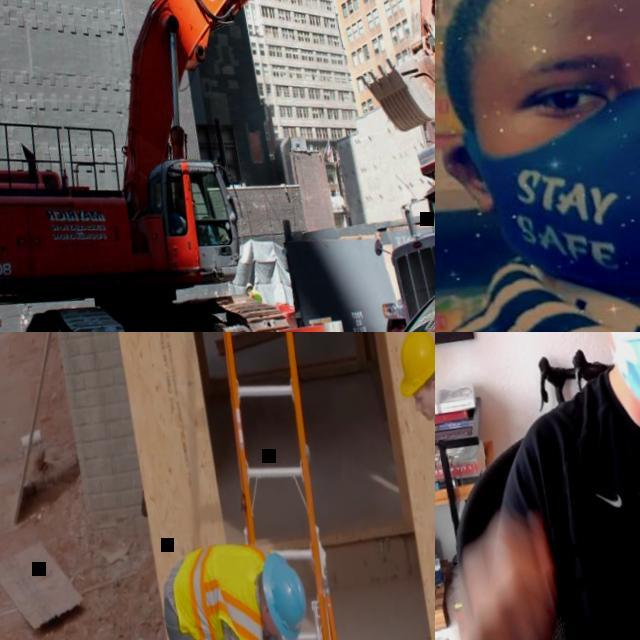helmet: (258, 547, 313, 640), (391, 332, 435, 398), (246, 280, 254, 290)
vest: (167, 535, 280, 640), (250, 288, 264, 304)
